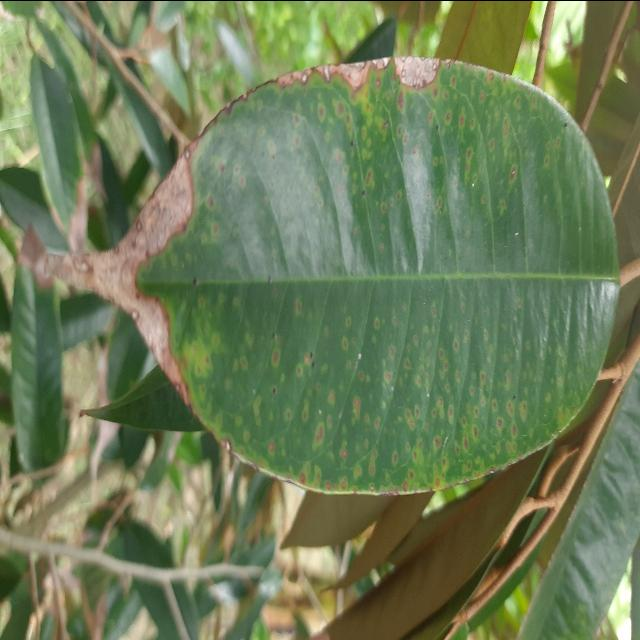Leaf Spot: (27, 47, 631, 497)
